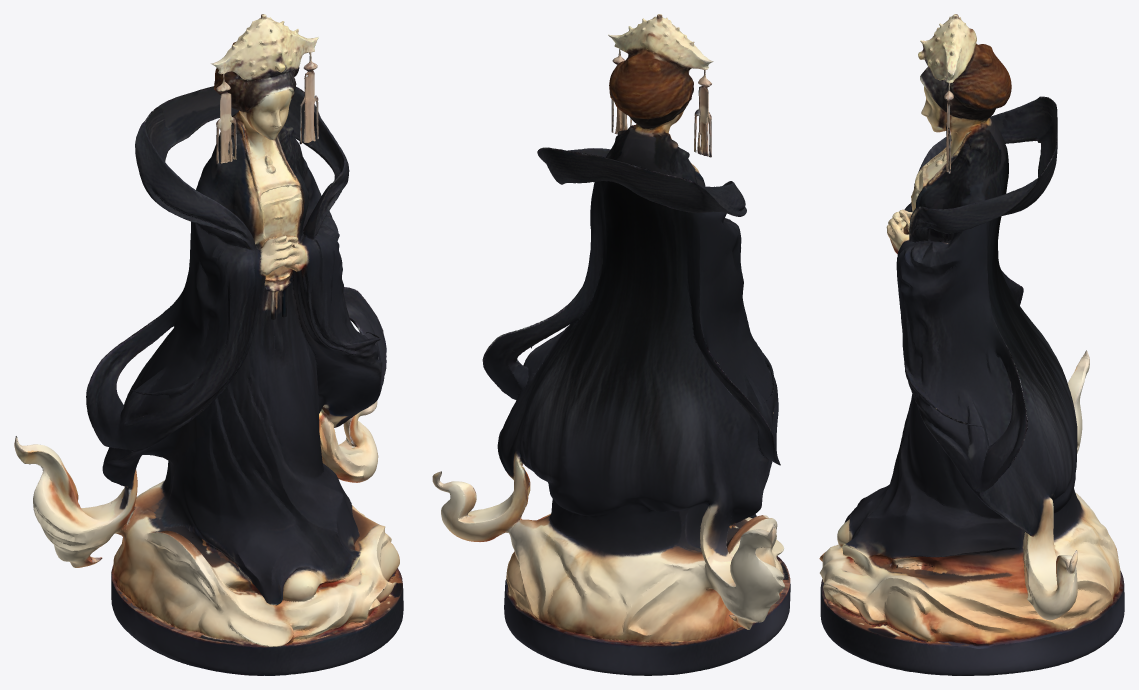
The model's file is queen_black.glb.
3 views of the same model, side by side, from view 1: azimuth 30°, elevation 25°; view 2: azimuth 150°, elevation 25°; view 3: azimuth 270°, elevation 25° (orthographic).
Visible parts, largest first — view 1: model; view 2: model; view 3: model.
Boxes of the visible parts, x1,y1,x2,y2 form: model: (14,14,403,675); model: (432,14,790,675); model: (819,14,1124,675).
Size of the model in its own units: 1.17 by 1.9 by 0.8702.
Materials: 1 (1 with a texture image).
